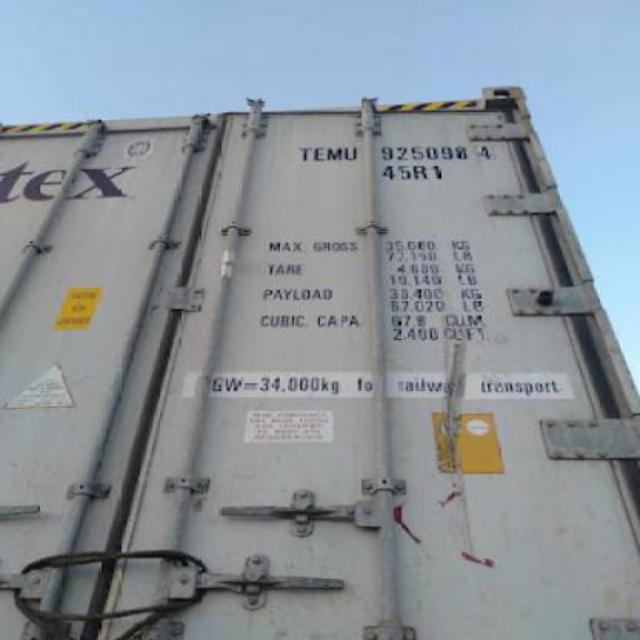0: (424, 136, 442, 164)
2: (394, 140, 408, 163)
4: (474, 143, 498, 161)
5: (406, 138, 426, 162)
8: (456, 140, 468, 164)
9: (438, 140, 454, 164), (378, 140, 394, 163)
E: (312, 142, 328, 164)
M: (324, 142, 344, 164)
T: (294, 142, 314, 164)
U: (344, 142, 358, 168)
